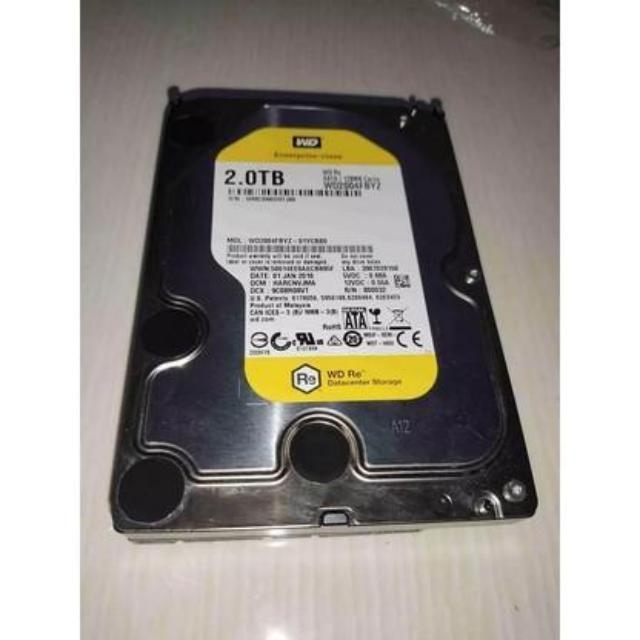DISK: (101, 78, 546, 550)
